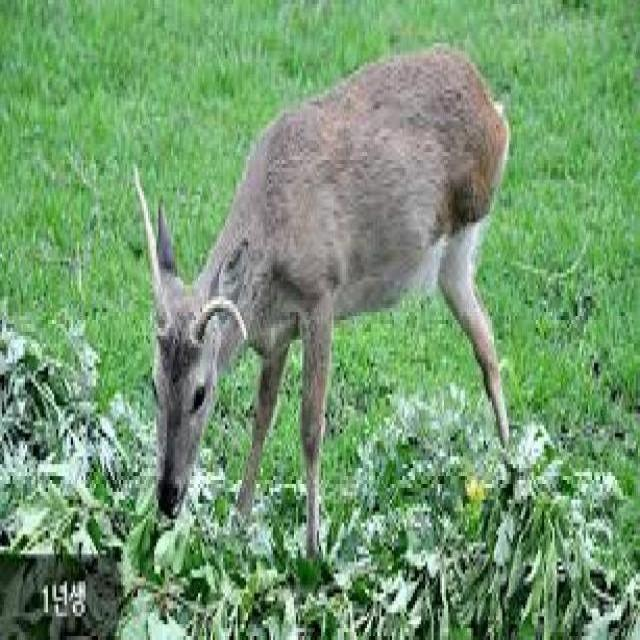deer: (136, 16, 523, 548)
